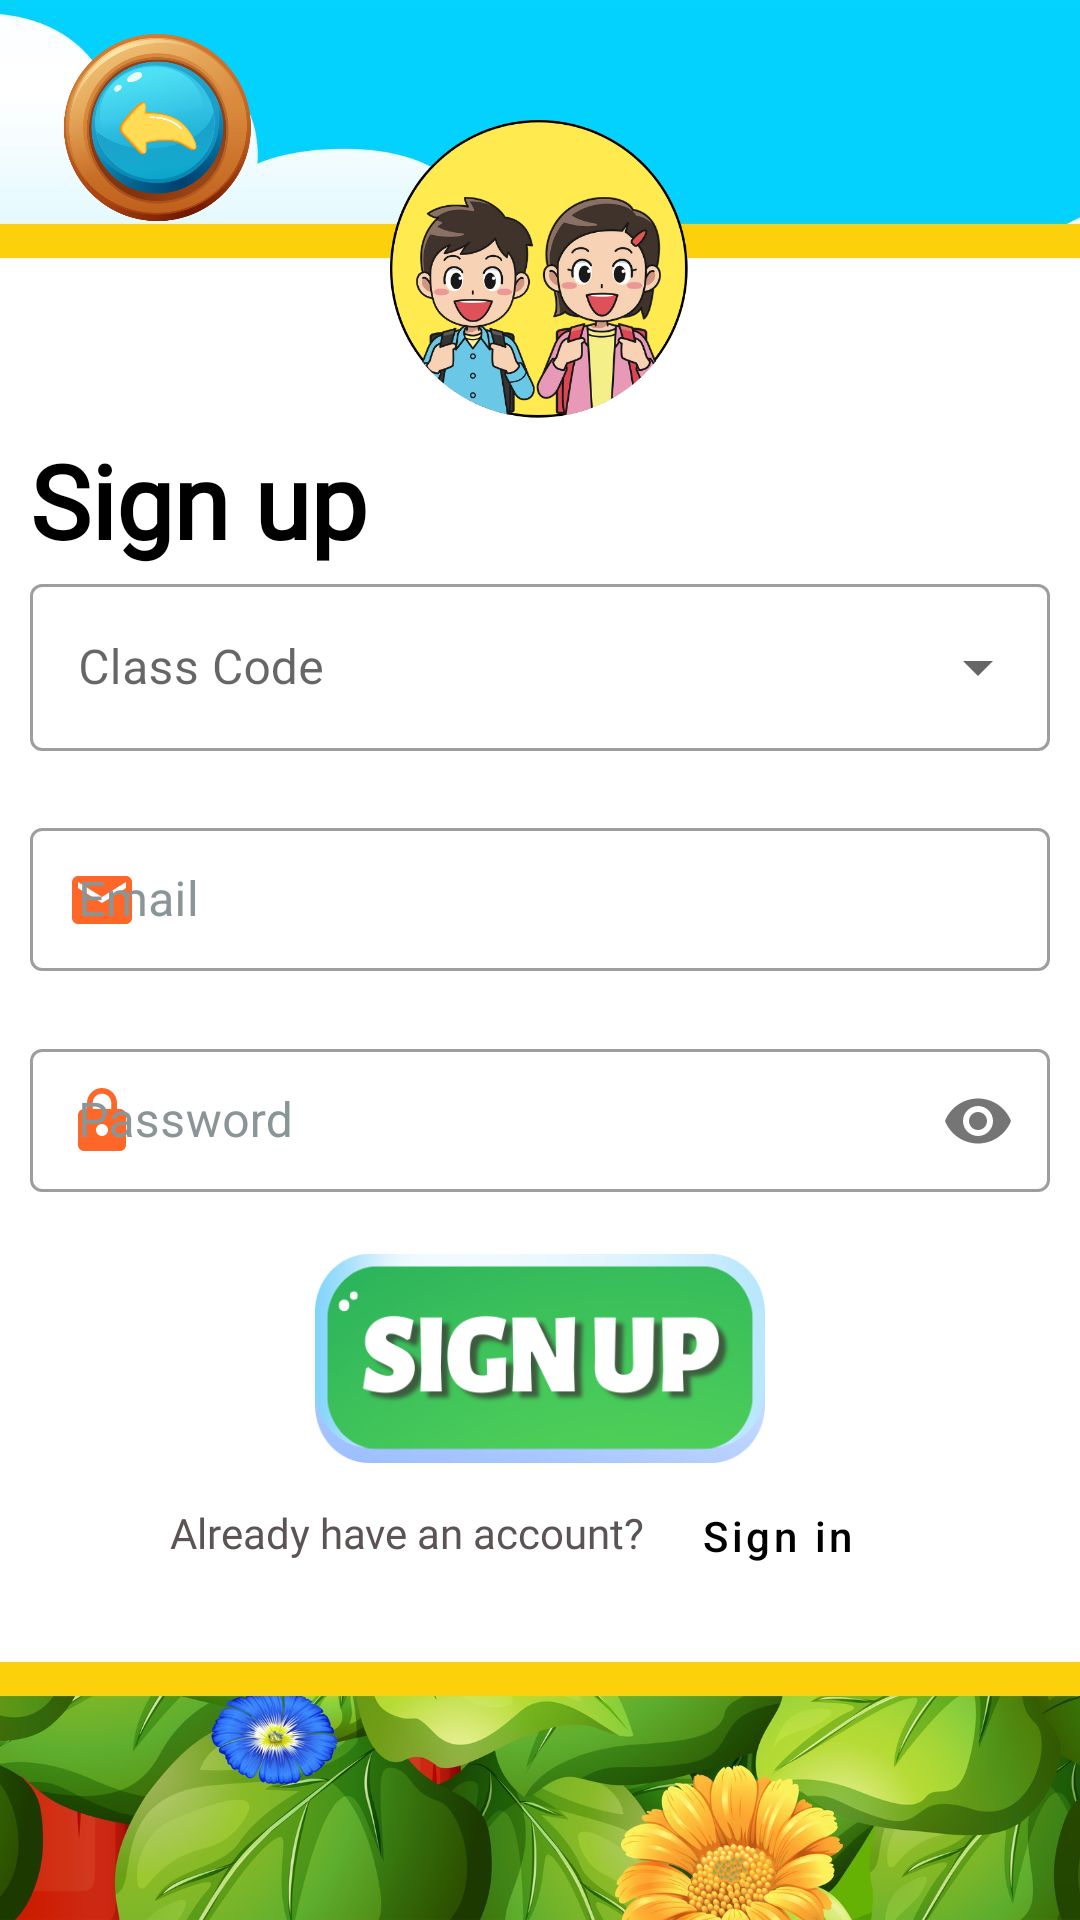

Where to tap for icons on this 1080w x 1920h app screen, as (x,y):
back: (157,127)
Learner: (540,270)
